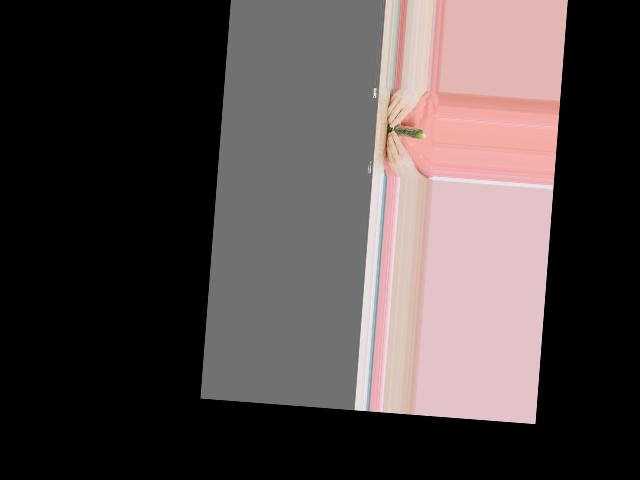cucumber: (386, 124, 426, 140)
